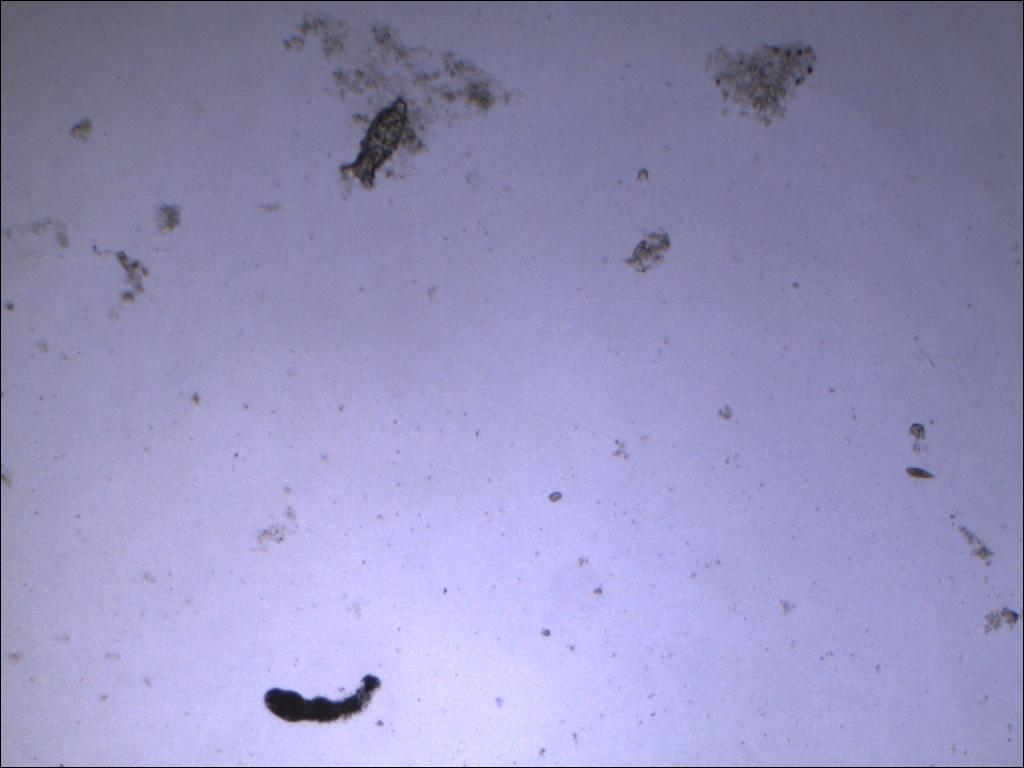amoeba: (254, 667, 395, 728)
